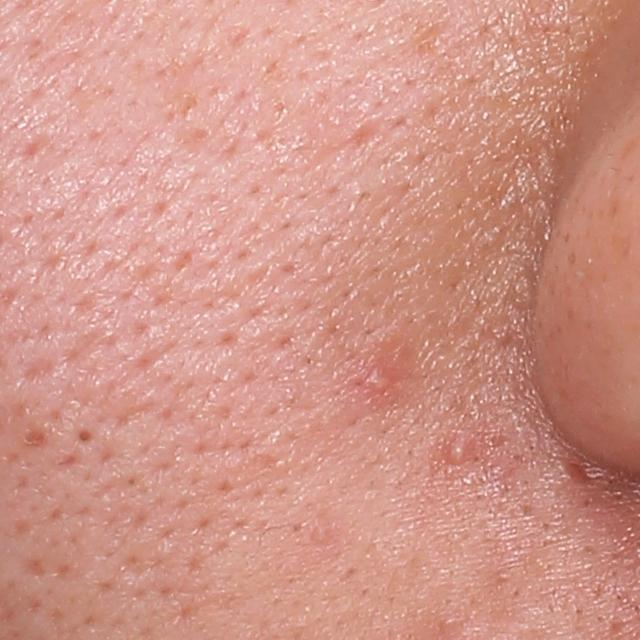comedo: (74, 431, 97, 448)
pustule: (363, 368, 394, 397), (443, 441, 470, 467)
